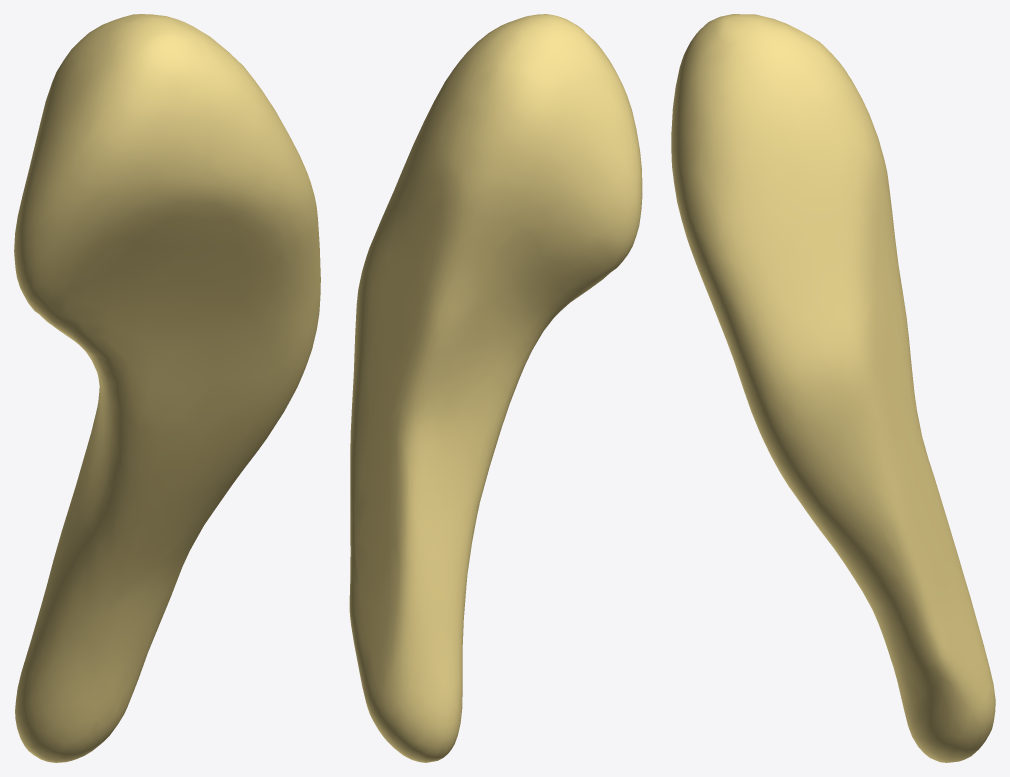
File: fma54612_mm3541m.glb
3 renders of one model, left to right at view 1: azimuth 30°, elevation 25°; view 2: azimuth 150°, elevation 25°; view 3: azimuth 270°, elevation 25°, orthographic. The views are drawn at different scales.
Visible parts, largest first — view 1: FMA54612_MM3541M; view 2: FMA54612_MM3541M; view 3: FMA54612_MM3541M.
Boxes of the visible parts, left/top/right/bottom form: FMA54612_MM3541M: left=14, top=14, right=320, bottom=762; FMA54612_MM3541M: left=349, top=14, right=642, bottom=762; FMA54612_MM3541M: left=671, top=14, right=995, bottom=762.
Bounding box in the file's own units: 0.00412 × 0.0105 × 0.00422.
